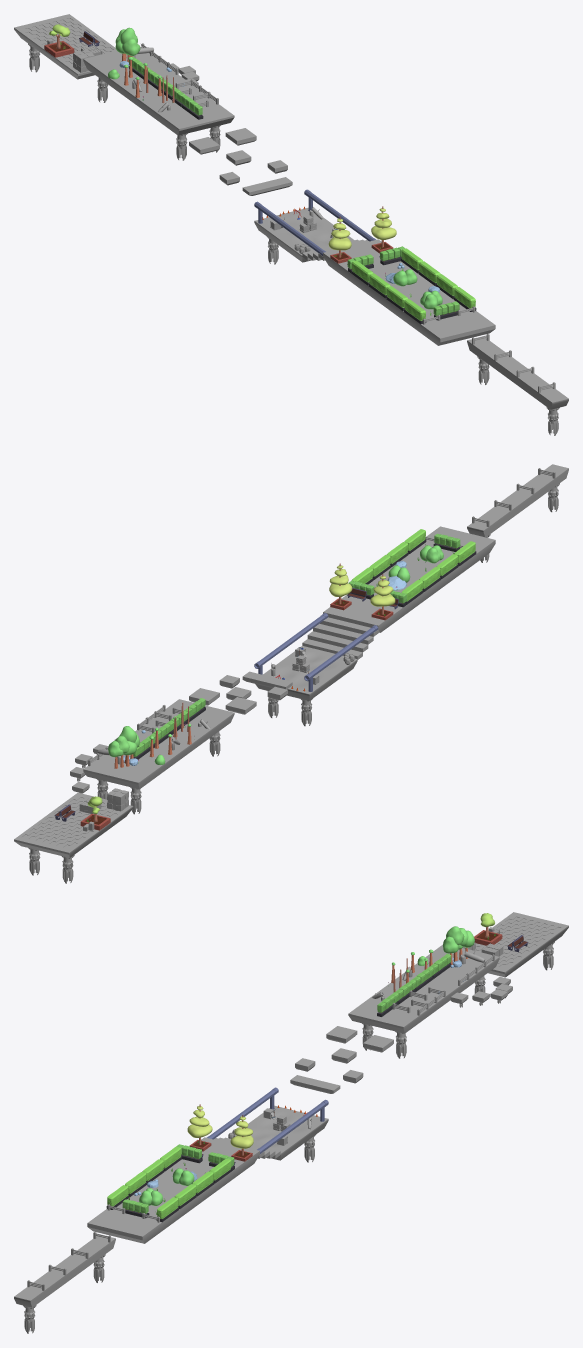
The model's file is Litet_Spel_Level.fbx.
3 views of the same model, one above another, from view 1: azimuth 30°, elevation 25°; view 2: azimuth 150°, elevation 25°; view 3: azimuth 330°, elevation 25° (orthographic).
Parts seen in each view (by area): view 1: Q1, Garden_Platform, Q, Final_Sprint_Platform, Q3, tree_c1, Q12; view 2: Q1, Garden_Platform, Q, Q3, Final_Sprint_Platform, Pipe_big, Pipe_big1, tree_c, tree_c1; view 3: Garden_Platform, Q1, Q, Final_Sprint_Platform, Q3, tree_c, Q12.
Part boxes in pixels (<box>): Q1: <box>83,46,234,135</box>; Garden_Platform: <box>323,239,495,345</box>; Q: <box>14,14,116,79</box>; Final_Sprint_Platform: <box>467,337,568,409</box>; Q3: <box>254,207,354,262</box>; tree_c1: <box>371,206,396,247</box>; Q12: <box>242,177,292,195</box>; Q1: <box>83,699,234,789</box>; Garden_Platform: <box>323,526,495,632</box>; Q: <box>14,792,133,857</box>; Q3: <box>255,646,357,700</box>; Final_Sprint_Platform: <box>467,464,568,537</box>; Pipe_big: <box>304,625,378,681</box>; Pipe_big1: <box>254,613,328,668</box>; tree_c: <box>370,574,395,614</box>; tree_c1: <box>329,563,352,604</box>; Garden_Platform: <box>87,1137,259,1243</box>; Q1: <box>348,944,499,1033</box>; Q: <box>475,912,568,977</box>; Final_Sprint_Platform: <box>14,1235,115,1307</box>; Q3: <box>247,1105,328,1160</box>; tree_c: <box>187,1104,212,1145</box>; Q12: <box>290,1075,340,1093</box>.
Size of the model in its own units: 48.59 by 58.09 by 487.
12 materials, 4 textured.
